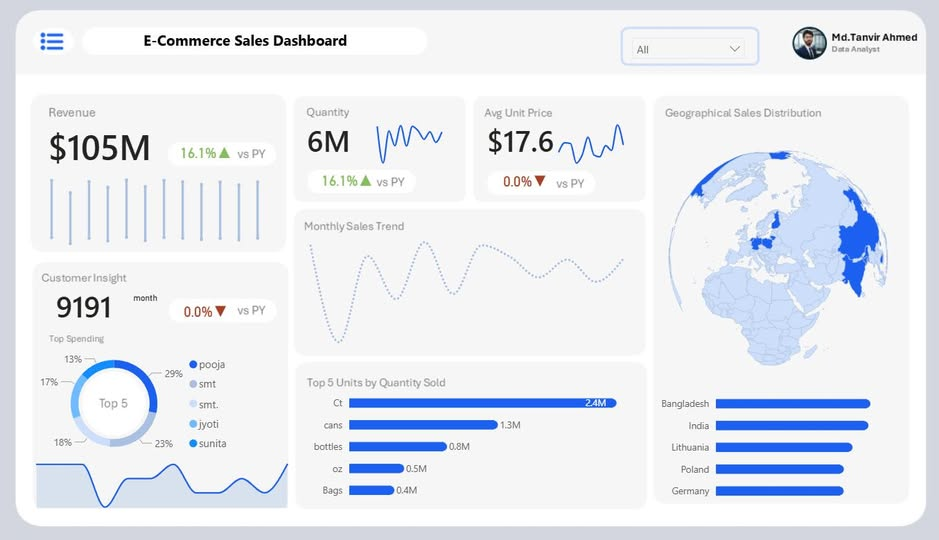

What the dashboard file says about the page in this screenshot:
{"tool":"tableau","page":{"name":"Sales Dashboard","canvas":[1200,800],"ordinal":1},"visuals":[{"type":"image","param":"Image/Icon2.png","box":[0,0,120,89]},{"type":"text","box":[120,0,804,89]},{"type":"dashboard-object","box":[924,0,92,89]},{"type":"dashboard-object","box":[1016,0,92,89]},{"type":"dashboard-object","box":[1108,0,92,89]},{"type":"worksheet","title":"Sales by Month","mark":"Line","rows":["Total_Bill","Calculation_2566559271124299778"],"cols":["transaction_date"],"box":[400,89,400,321]},{"type":"worksheet","title":"Sales by Week","mark":"Area","rows":["Total_Bill"],"cols":["transaction_date"],"box":[800,89,400,321]},{"type":"worksheet","title":"KPI Sales","mark":"Line","rows":["Calculation_5126011232724000768"],"cols":["transaction_date"],"box":[16,95,368,267]},{"type":"text","box":[908,97,284,47.3]},{"type":"parameter","param":"[Parameters].[Parameter 1]","box":[908,144.3,284,47.3]},{"type":"text","box":[908,191.7,284,43]},{"type":"filter","title":"KPI Sales","param":"[federated.1cw3f6g1wk77oe1g50jml00lt89d].[none:product_category:nk]","box":[908,234.7,284,47.3]},{"type":"filter","title":"KPI Sales","param":"[federated.1cw3f6g1wk77oe1g50jml00lt89d].[none:Size:nk]","box":[908,282,284,46]},{"type":"text","box":[908,328,284,42]},{"type":"text","box":[16,362,368,32]},{"type":"filter","title":"KPI Sales","param":"[federated.1cw3f6g1wk77oe1g50jml00lt89d].[none:store_location:nk]","box":[908,370,284,32]},{"type":"worksheet","title":"Weekly Sales Trend","mark":"GanttBar","rows":["Calculation_4496562815699218435"],"cols":["transaction_date"],"box":[0,410,400,390]},{"type":"worksheet","title":" Revenue By Store Location","mark":"Bar","rows":["store_location"],"cols":["Total_Bill"],"box":[400,410,400,390]},{"type":"worksheet","title":"Revenue Per Product Type","mark":"Bar","rows":["product_detail"],"cols":["Total_Bill"],"box":[800,410,400,390]}]}

Visuals, with their boxes on the page's 1200x800 design canvas (x1, y1, x2, y2). These are canvas units, not pixel positions in the 939x540 screenshot, which may show the page scaled, cropped or inside an application window:
image: 0, 0, 120, 89
text: 120, 0, 924, 89
dashboard-object: 924, 0, 1016, 89
dashboard-object: 1016, 0, 1108, 89
dashboard-object: 1108, 0, 1200, 89
"Sales by Month" worksheet (Line marks): 400, 89, 800, 410
"Sales by Week" worksheet (Area marks): 800, 89, 1200, 410
"KPI Sales" worksheet (Line marks): 16, 95, 384, 362
text: 908, 97, 1192, 144
parameter: 908, 144, 1192, 192
text: 908, 192, 1192, 235
"KPI Sales" filter: 908, 235, 1192, 282
"KPI Sales" filter: 908, 282, 1192, 328
text: 908, 328, 1192, 370
text: 16, 362, 384, 394
"KPI Sales" filter: 908, 370, 1192, 402
"Weekly Sales Trend" worksheet (GanttBar marks): 0, 410, 400, 800
" Revenue By Store Location" worksheet (Bar marks): 400, 410, 800, 800
"Revenue Per Product Type" worksheet (Bar marks): 800, 410, 1200, 800
